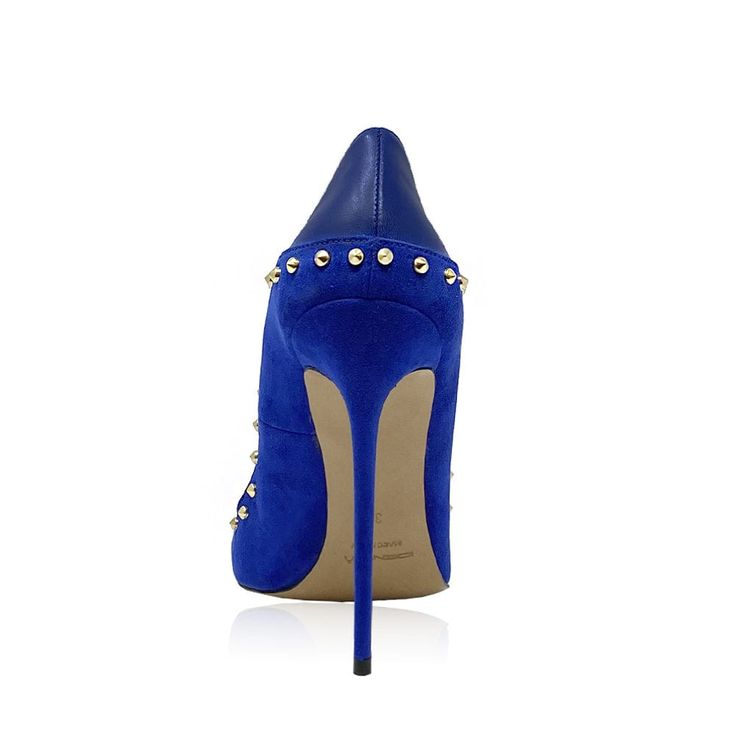gamuza: (231, 238, 465, 660)
